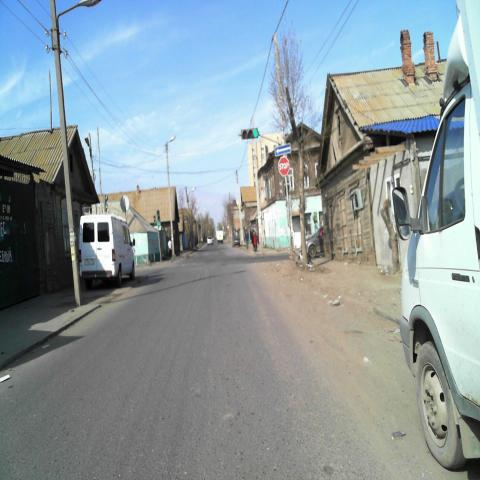5_7_2: (274, 143, 291, 156)
